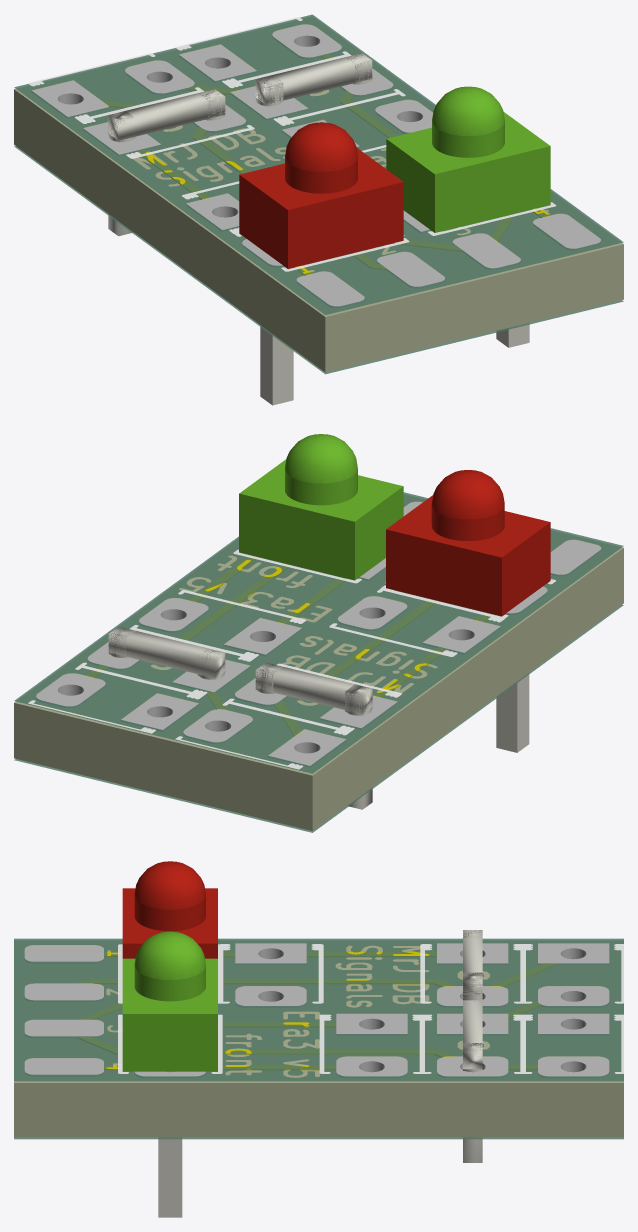
Rendered from MrJ-DB-Era3-prod-bloc-off.glb.
The picture shows the model from 3 angles, top to bottom: view 1: azimuth 30°, elevation 25°; view 2: azimuth 150°, elevation 25°; view 3: azimuth 270°, elevation 25°; orthographic projection. The views are drawn at different scales.
Parts seen in each view (by area): view 1: =>[0:1:1:13], =>[0:1:1:11], =>[0:1:1:7], =>[0:1:1:9], =>[0:1:1:3], =>[0:1:1:5] (×2), =>[0:1:1:10], =>[0:1:1:8], =>[0:1:1:12]; view 2: =>[0:1:1:13], =>[0:1:1:11], =>[0:1:1:7], =>[0:1:1:9], =>[0:1:1:3], =>[0:1:1:5] (×2), =>[0:1:1:10], =>[0:1:1:8], =>[0:1:1:12]; view 3: =>[0:1:1:13], =>[0:1:1:11], =>[0:1:1:9], =>[0:1:1:3], =>[0:1:1:7], =>[0:1:1:8], =>[0:1:1:10], =>[0:1:1:5] (×2), =>[0:1:1:12].
Part boxes in pixels (<box>): =>[0:1:1:13]: <box>14,17,623,372</box>; =>[0:1:1:11]: <box>14,14,623,314</box>; =>[0:1:1:7]: <box>239,122,403,405</box>; =>[0:1:1:9]: <box>32,24,600,307</box>; =>[0:1:1:3]: <box>386,86,550,347</box>; =>[0:1:1:5] (×2): <box>108,53,372,236</box>; =>[0:1:1:10]: <box>28,17,556,271</box>; =>[0:1:1:8]: <box>101,54,550,275</box>; =>[0:1:1:12]: <box>14,146,623,374</box>; =>[0:1:1:13]: <box>14,495,623,830</box>; =>[0:1:1:11]: <box>14,492,623,773</box>; =>[0:1:1:7]: <box>386,470,550,752</box>; =>[0:1:1:9]: <box>36,502,601,766</box>; =>[0:1:1:3]: <box>239,434,403,580</box>; =>[0:1:1:5] (×2): <box>108,626,372,809</box>; =>[0:1:1:10]: <box>28,549,555,769</box>; =>[0:1:1:8]: <box>85,557,489,736</box>; =>[0:1:1:12]: <box>14,604,623,832</box>; =>[0:1:1:13]: <box>14,941,623,1137</box>; =>[0:1:1:11]: <box>14,938,623,1081</box>; =>[0:1:1:9]: <box>24,943,609,1077</box>; =>[0:1:1:3]: <box>122,931,217,1217</box>; =>[0:1:1:7]: <box>122,861,217,958</box>; =>[0:1:1:8]: <box>78,952,555,1070</box>; =>[0:1:1:10]: <box>118,944,623,1073</box>; =>[0:1:1:5] (×2): <box>463,930,482,1162</box>; =>[0:1:1:12]: <box>14,1137,623,1139</box>.
Size of the model in its own units: 0.00851 by 0.0071 by 0.0154.
